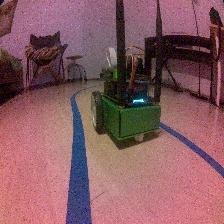rob: (90, 47, 161, 143)
